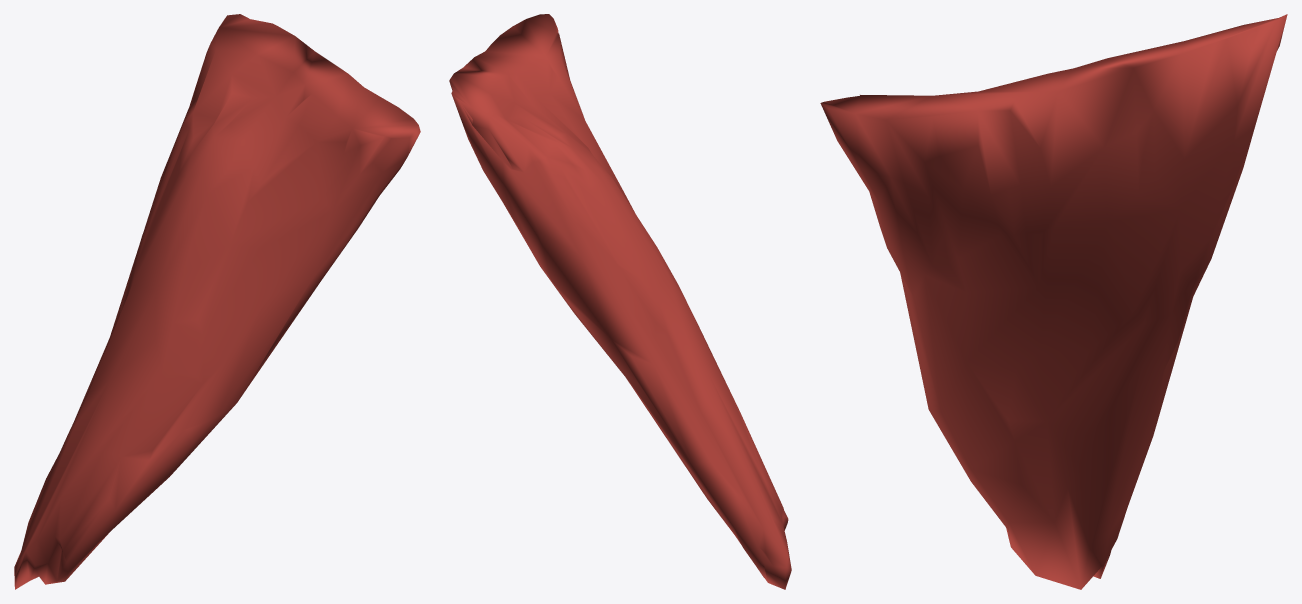
File: musculos-rectus-posterior-major-capitis-muscle-l.glb
The picture shows the model from 3 angles, left to right: view 1: azimuth 30°, elevation 25°; view 2: azimuth 150°, elevation 25°; view 3: azimuth 270°, elevation 25°; orthographic projection. The views are drawn at different scales.
Visible parts, largest first — view 1: Rectus posterior major capitis muscle.l; view 2: Rectus posterior major capitis muscle.l; view 3: Rectus posterior major capitis muscle.l.
Boxes of the visible parts, x1,y1,x2,y2 form: Rectus posterior major capitis muscle.l: [14, 14, 420, 589]; Rectus posterior major capitis muscle.l: [449, 14, 791, 589]; Rectus posterior major capitis muscle.l: [820, 14, 1287, 589].
Bounding box in the file's own units: 0.0353 × 0.0466 × 0.0253.
